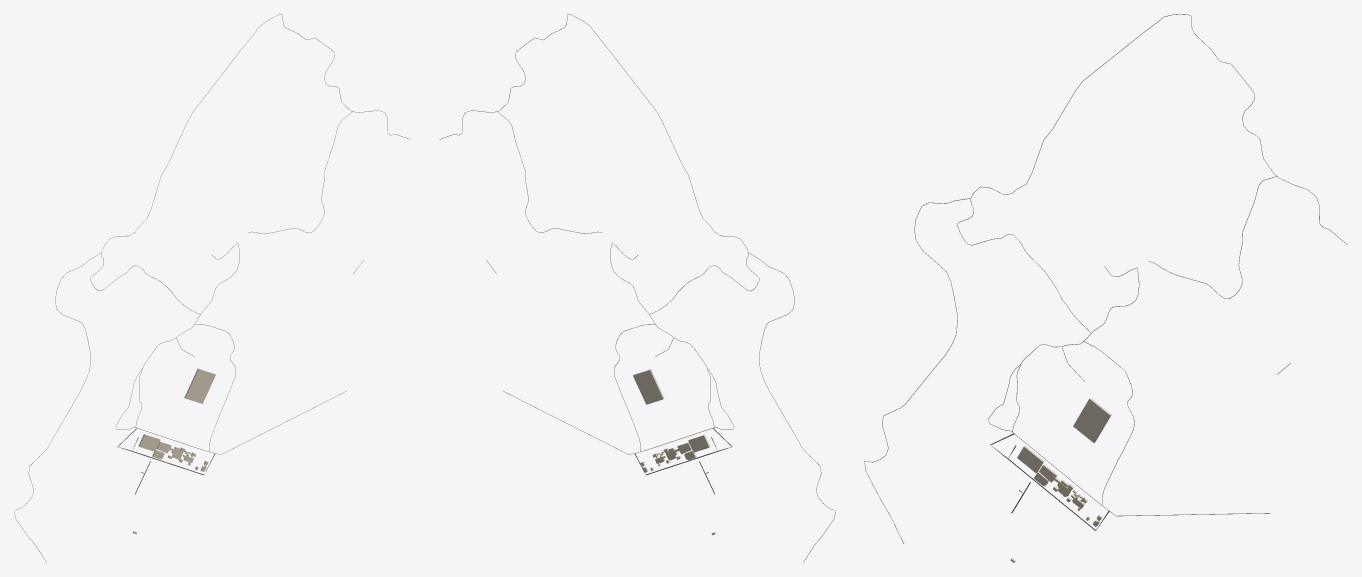
Rendered from historic-palestine-06_23_3484_3171.glb.
3 views of the same model, side by side, from view 1: azimuth 30°, elevation 25°; view 2: azimuth 150°, elevation 25°; view 3: azimuth 330°, elevation 25° (orthographic). The views are drawn at different scales.
Parts seen in each view (by area): view 1: Road .001, Building_.001; view 2: Road .001, Building_.001; view 3: Road .001, Building_.001.
Part boxes in pixels (x1,y1,x2,y2): Road .001: [14, 14, 410, 562]; Building_.001: [184, 368, 215, 403]; Road .001: [439, 14, 835, 562]; Building_.001: [633, 369, 664, 404]; Road .001: [864, 14, 1347, 543]; Building_.001: [1073, 398, 1111, 442].
Bounding box in the file's own units: 1568 × 1857 × 8.7.
